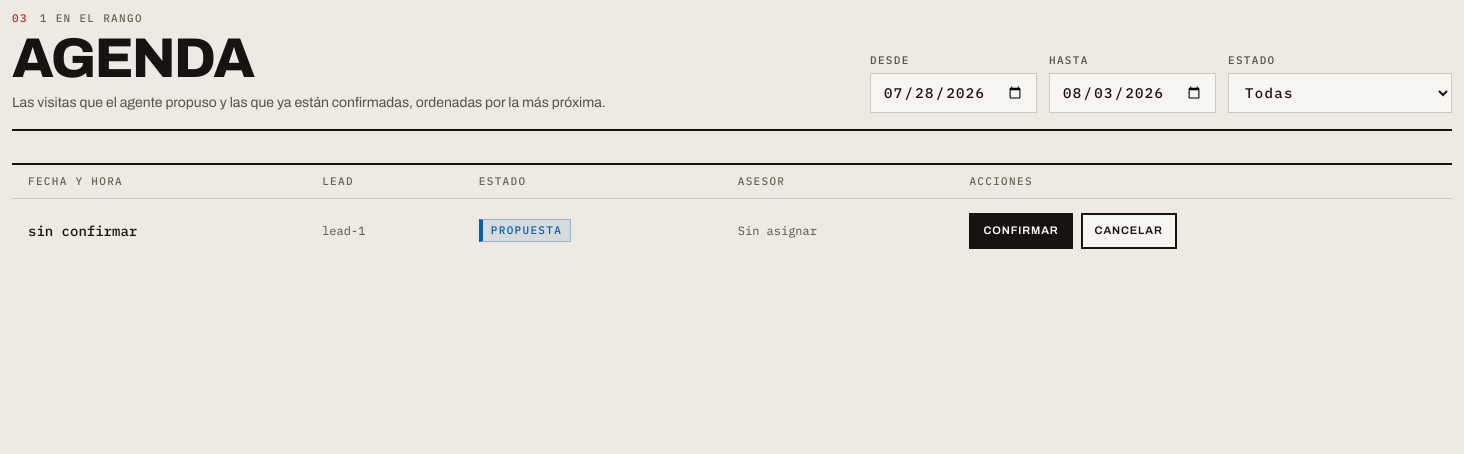
it: AgendaPage › Confirmar sin fecha/hora no invoca confirmAppointment y muestra un mensaje de validacion
Click the button "Confirmar" at [1021, 231], box [969,213,1073,249]
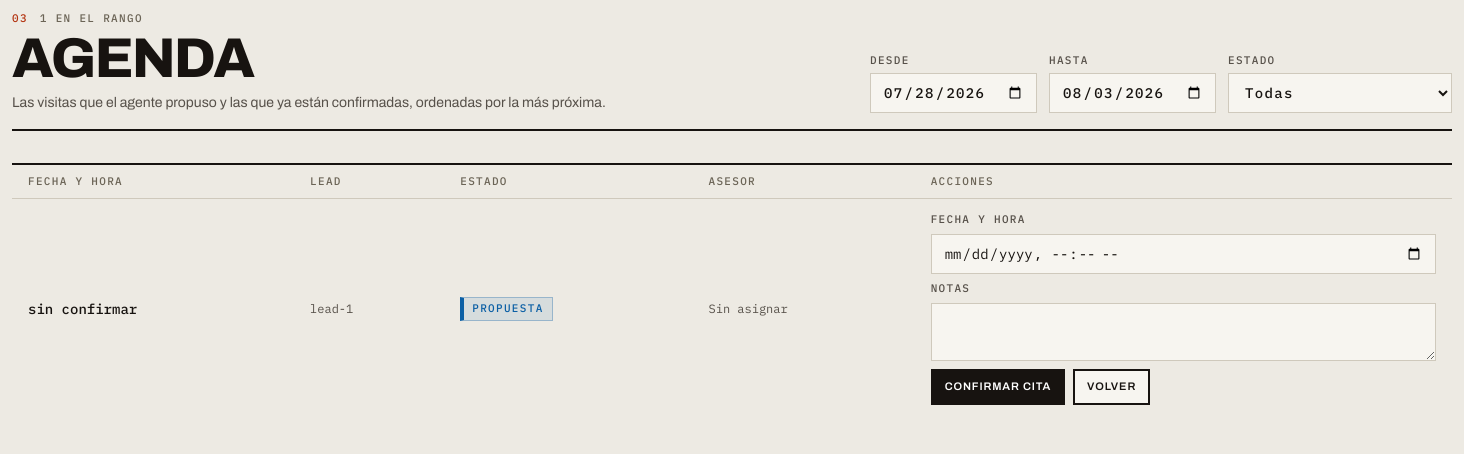
Click the button "Confirmar cita" at [998, 387], box [931,369,1065,405]
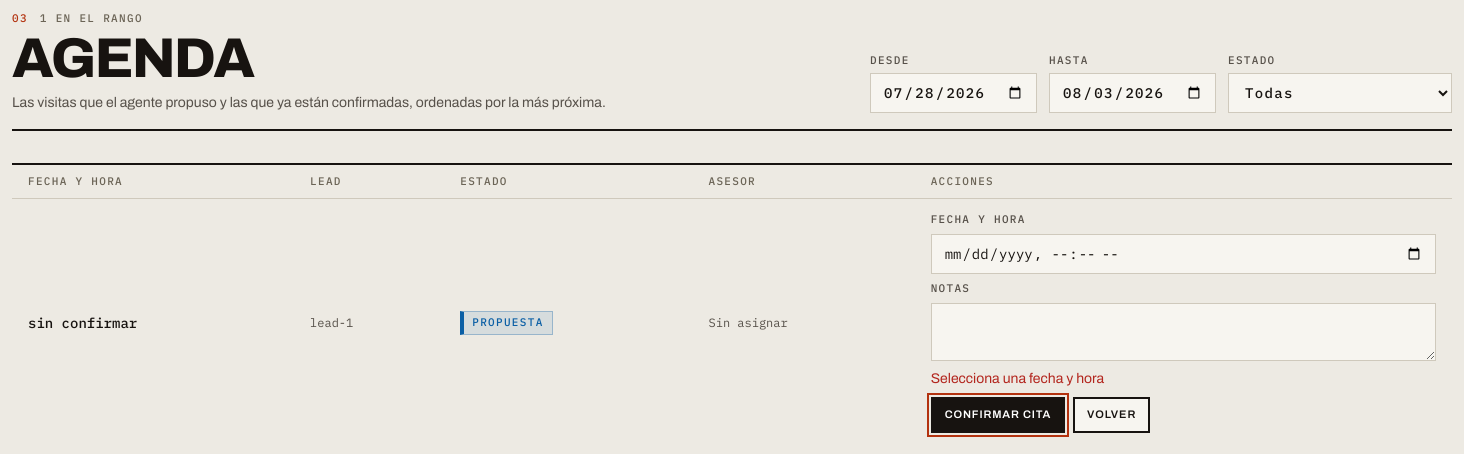
expect the text "Selecciona una fecha y hora" is shown: met, box [931,371,1104,386]
